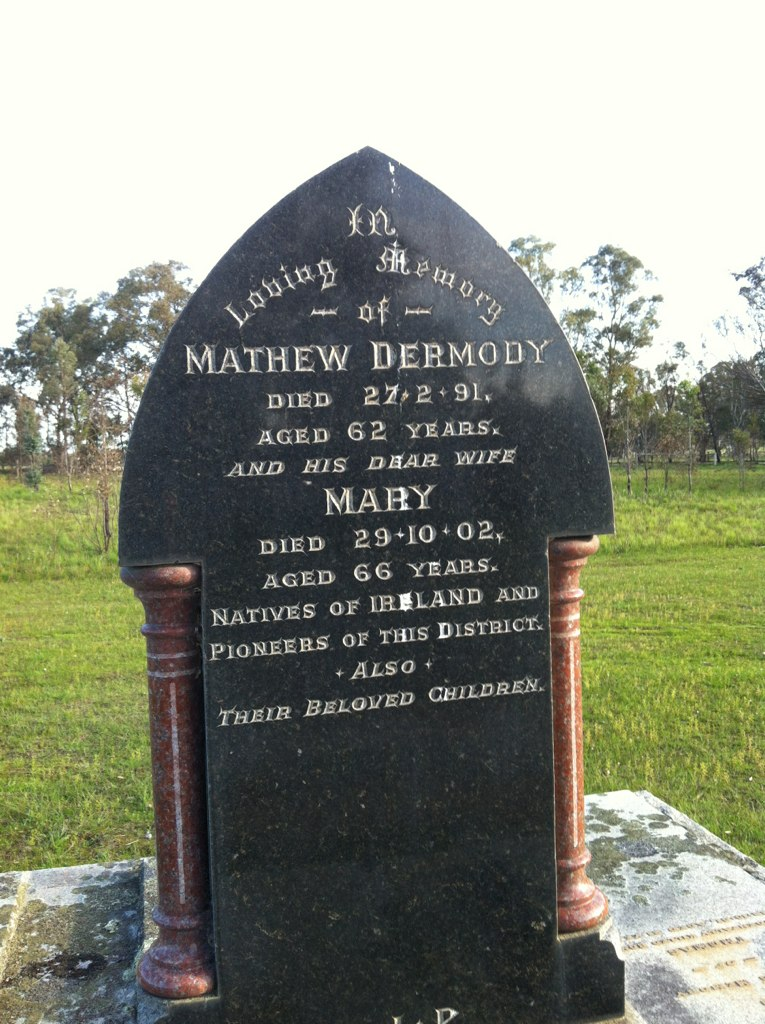upright: (115, 144, 628, 1024)
